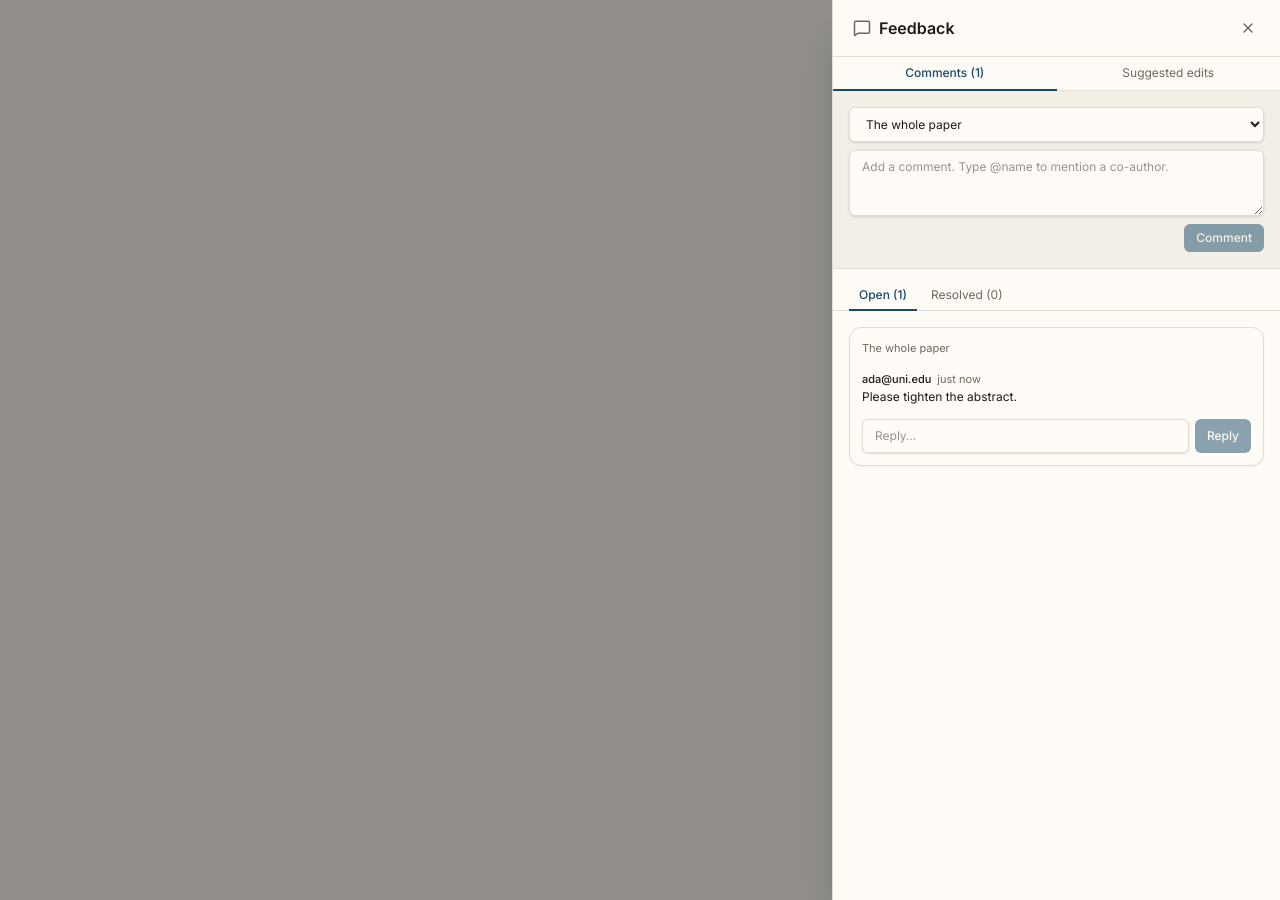
Test: CommentsPanel › shows why a comment failed and keeps the draft
This screenshot has width=1280, height=900.
expect the text "ada@uni.edu" is shown: met, box 862,370 -> 931,387
Type "Typo in Fig. 1" into the text box named "New comment" at (1056, 183), box 849,150 -> 1264,216
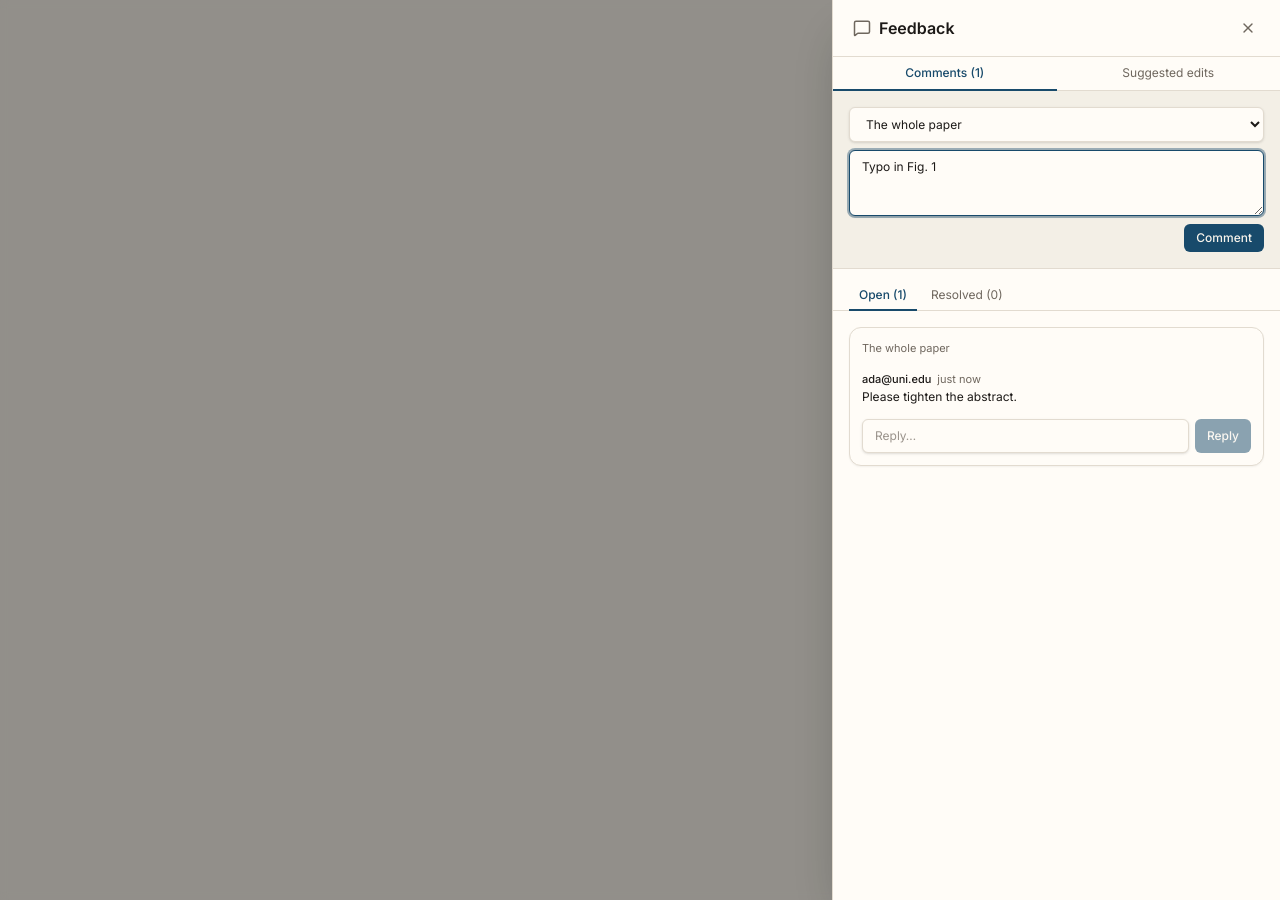
Click the button "Comment" at (1224, 238), box 1184,224 -> 1264,252
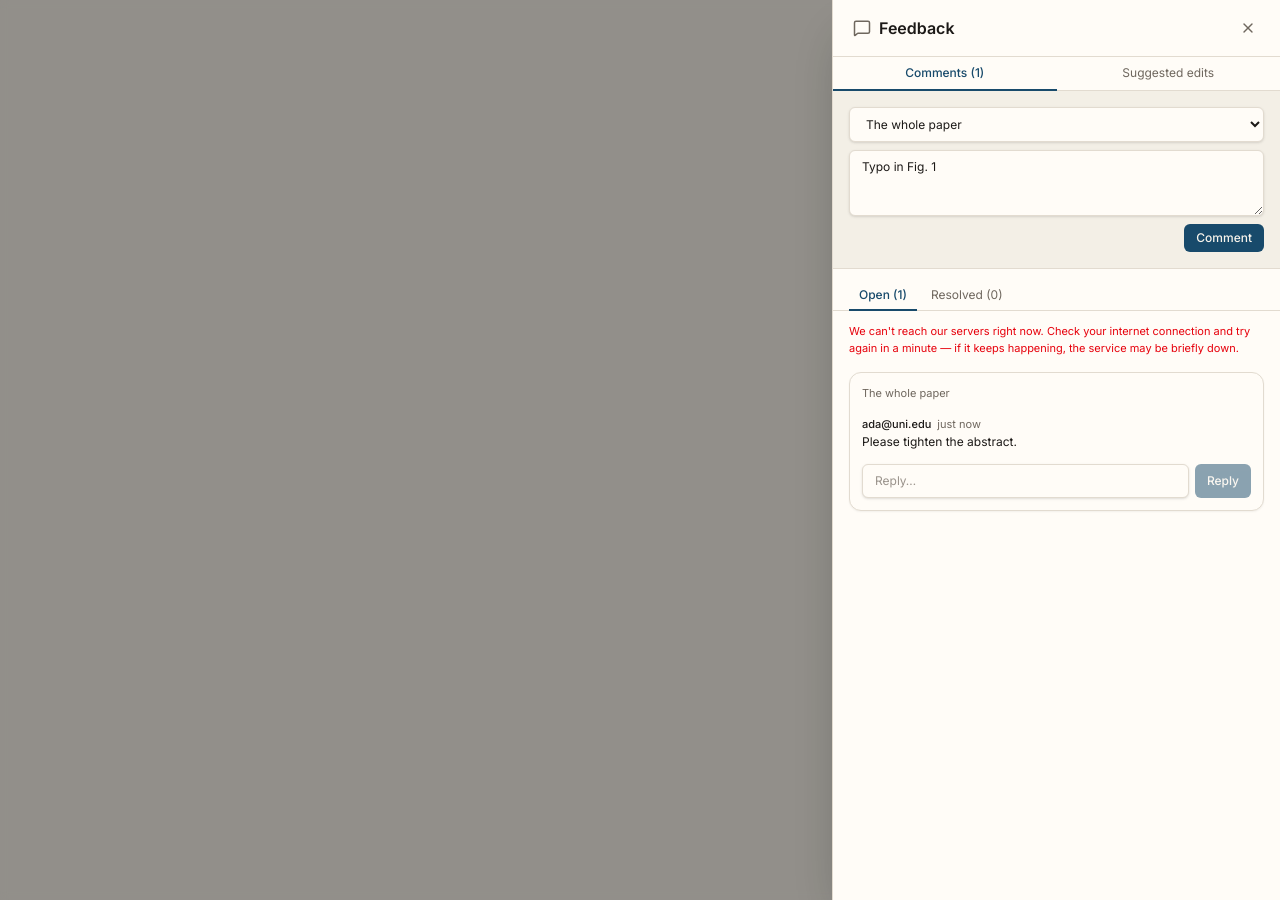
expect the message is not empty: met, box 849,323 -> 1264,356
